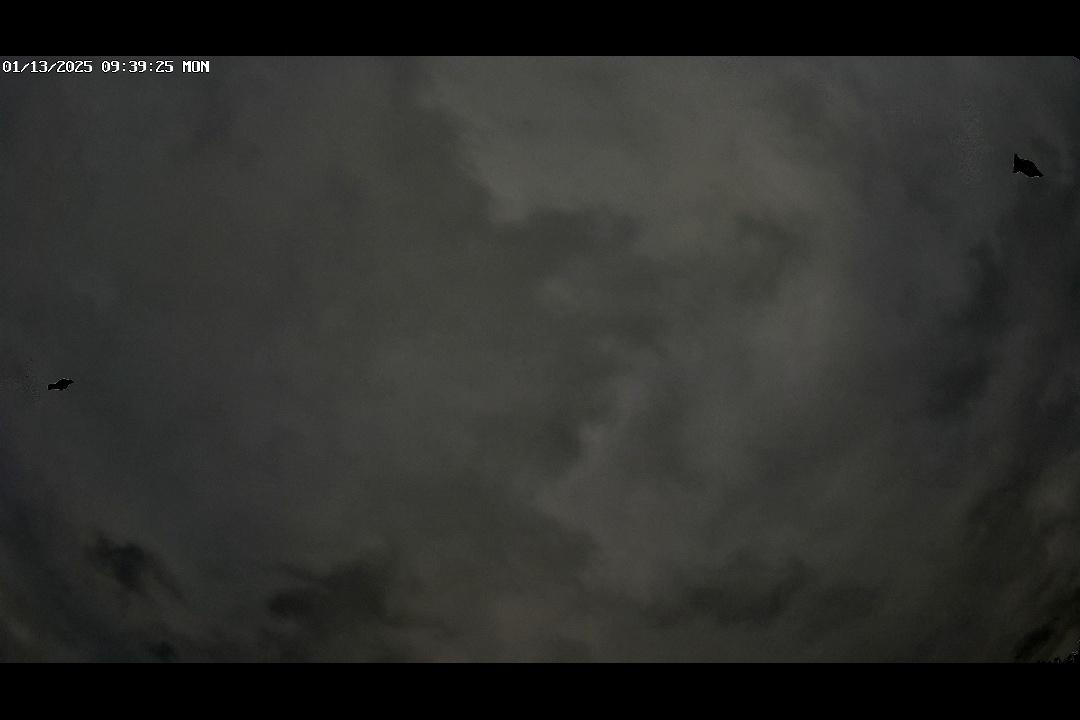WildLife: (981, 144, 1070, 184), (32, 371, 95, 398)
